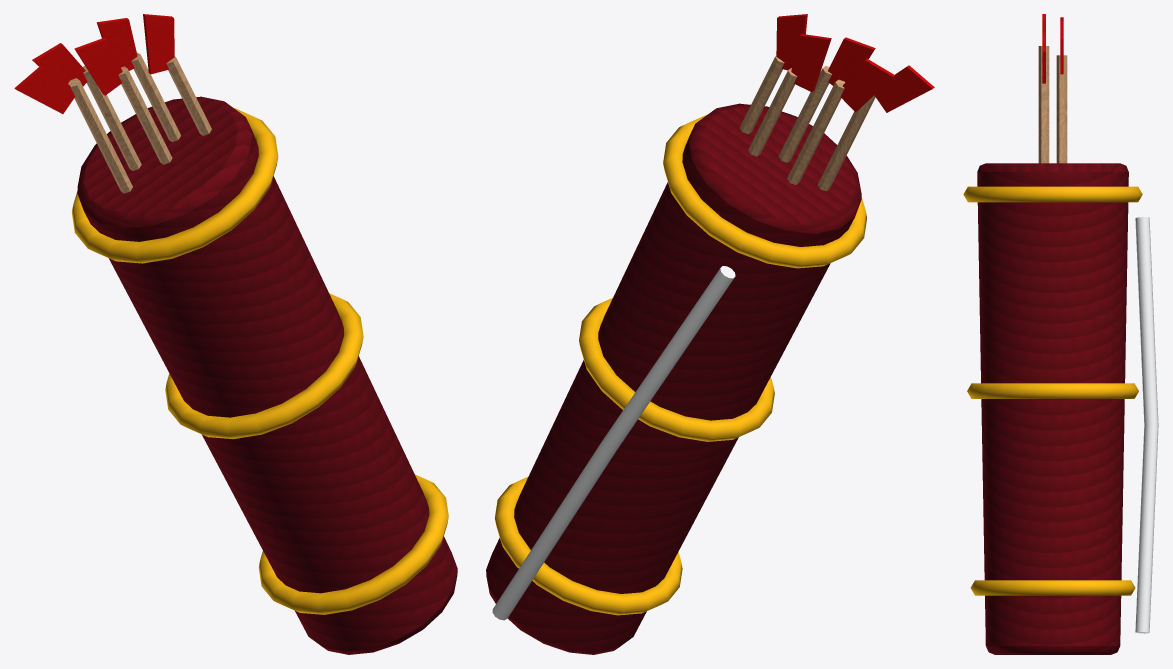
File: backpack_ember_quiver.glb
3 views of the same model, side by side, from view 1: azimuth 30°, elevation 25°; view 2: azimuth 150°, elevation 25°; view 3: azimuth 270°, elevation 25° (orthographic). The views are drawn at different scales.
Parts seen in each view (by area): view 1: backpack_ember_quiver; view 2: backpack_ember_quiver; view 3: backpack_ember_quiver.
Part boxes in pixels (x1=…): backpack_ember_quiver: x1=14, y1=14, x2=457, y2=654; backpack_ember_quiver: x1=486, y1=14, x2=934, y2=654; backpack_ember_quiver: x1=963, y1=14, x2=1158, y2=654.
Bounding box in the file's own units: 0.4528 × 0.6759 × 0.2183.
Materials: 5 (3 with a texture image).
